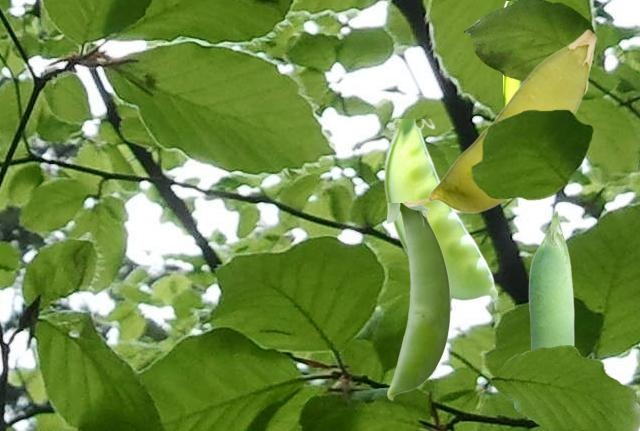pea: (403, 29, 596, 212), (383, 119, 496, 310), (387, 203, 449, 399), (528, 210, 573, 349), (503, 1, 521, 106)
